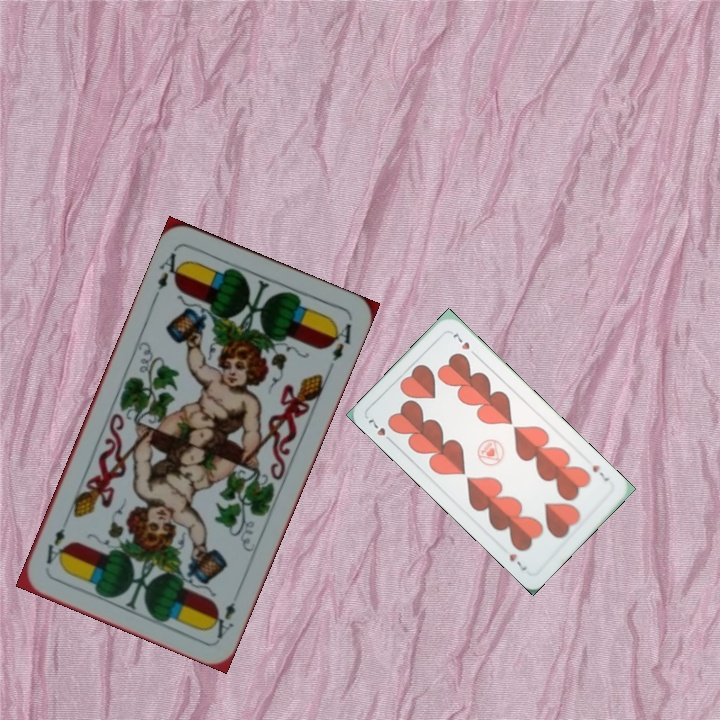EA: (153, 245, 187, 292), (206, 598, 238, 641)
H7: (364, 413, 396, 446), (588, 461, 612, 484)
